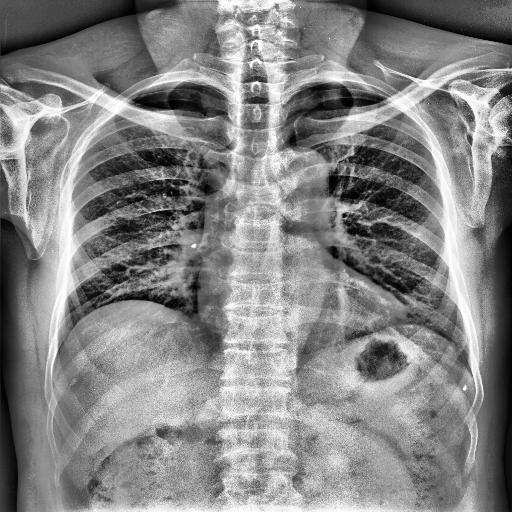0- Aortic enlargement: (264, 144, 331, 196), (276, 146, 331, 198), (272, 148, 330, 190)
3- Cardiomegaly: (196, 278, 412, 339), (192, 291, 416, 343)
